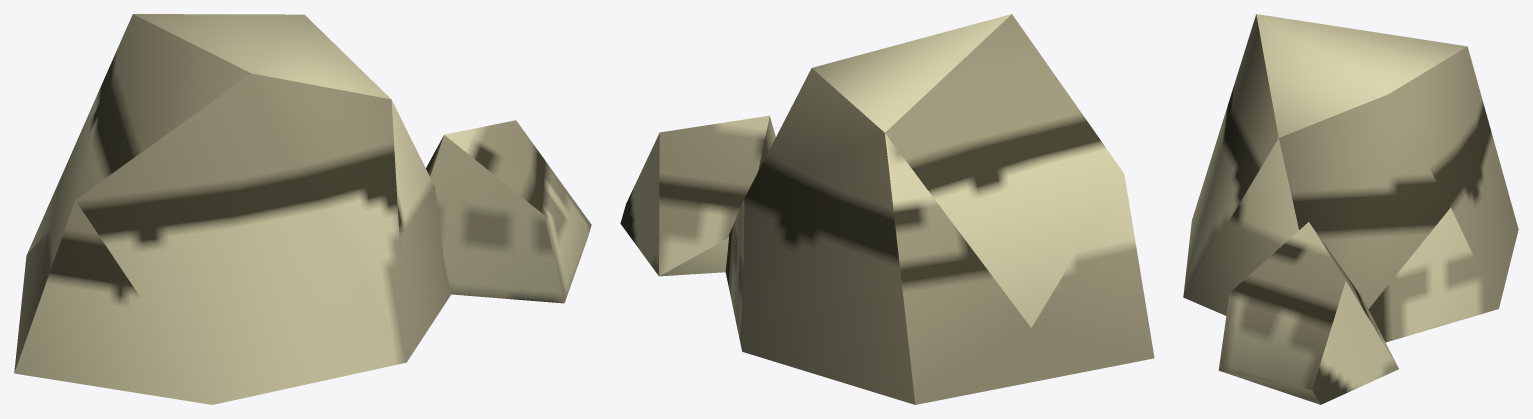
The model's file is stone_v2.fbx.
3 renders of one model, left to right at view 1: azimuth 30°, elevation 25°; view 2: azimuth 150°, elevation 25°; view 3: azimuth 270°, elevation 25°, orthographic. The views are drawn at different scales.
Visible parts, largest first — view 1: prop; view 2: prop; view 3: prop.
Boxes of the visible parts, left/top/right/bottom form: prop: left=14, top=14, right=591, bottom=404; prop: left=620, top=14, right=1154, bottom=404; prop: left=1183, top=14, right=1518, bottom=404.
Bounding box in the file's own units: 0.5596 × 0.2676 × 0.3418.
